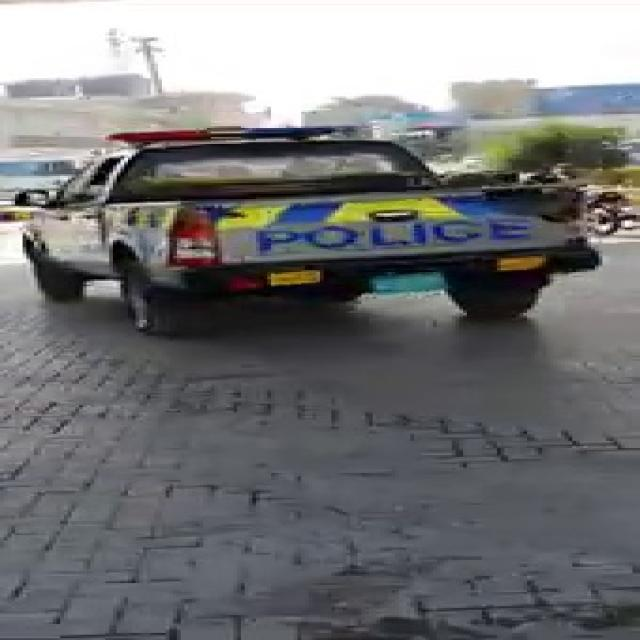police: (77, 116, 580, 346)
